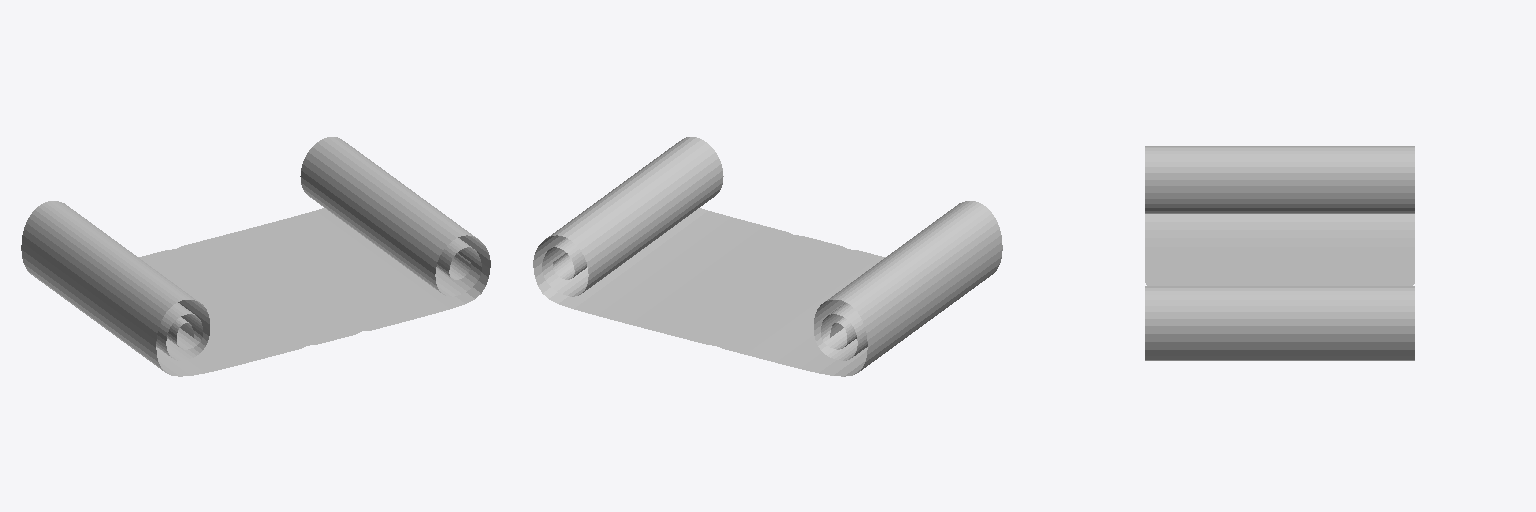
Rendered from paper.obj.
The picture shows the model from 3 angles: view 1: azimuth 30°, elevation 25°; view 2: azimuth 150°, elevation 25°; view 3: azimuth 270°, elevation 25°; orthographic projection.
Parts seen in each view (by area): view 1: Scroll; view 2: Scroll; view 3: Scroll.
Boxes of the visible parts, x1,y1,x2,y2 form: Scroll: [21, 137, 490, 376]; Scroll: [533, 137, 1002, 376]; Scroll: [1145, 146, 1414, 360].
Size of the model in its own units: 0.3283 by 0.074 by 0.2295.